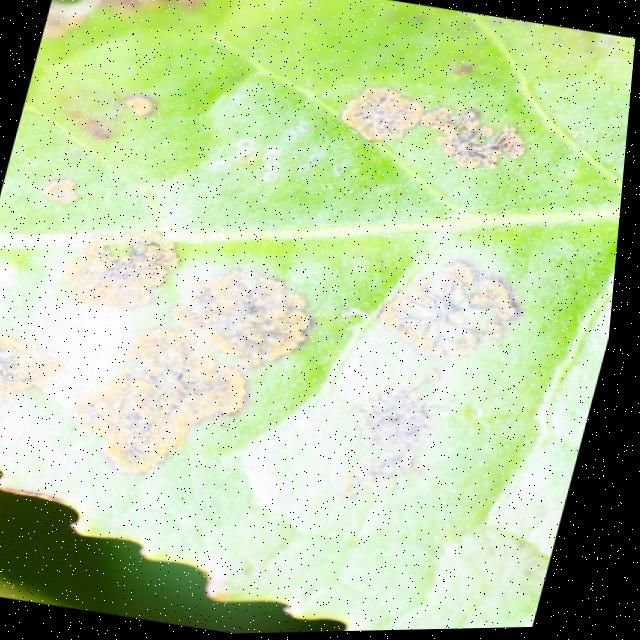Tea red rust: (0, 0, 579, 537)
